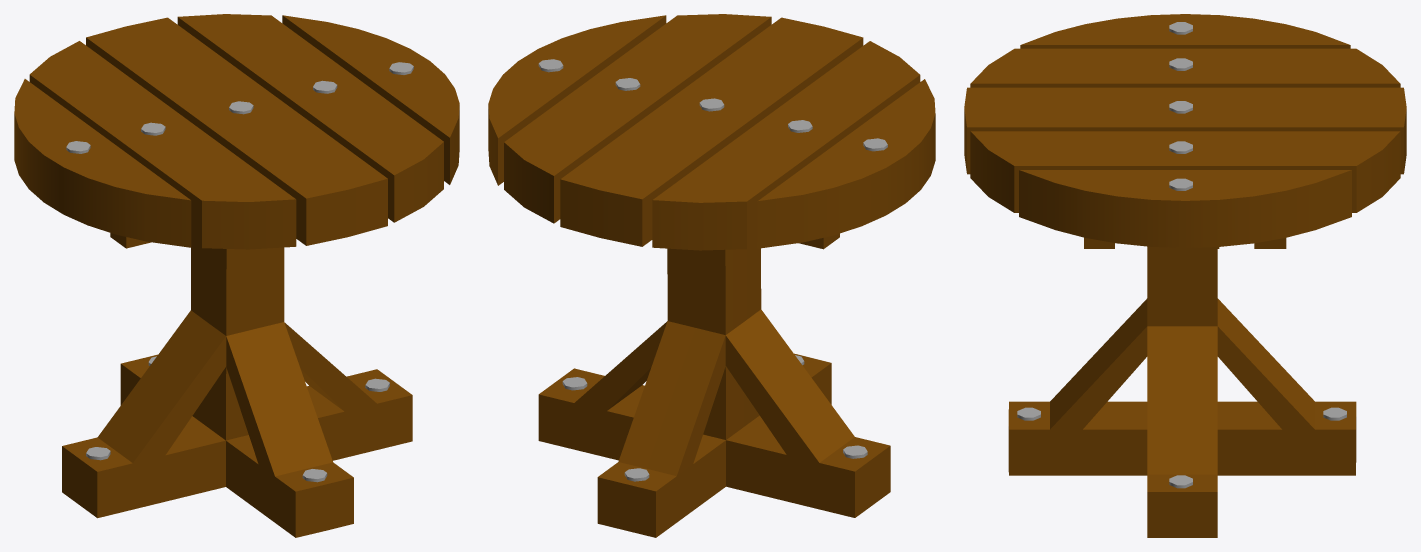
Rendered from Table_Small_low.fbx.
The picture shows the model from 3 angles, left to right: view 1: azimuth 30°, elevation 25°; view 2: azimuth 150°, elevation 25°; view 3: azimuth 270°, elevation 25°; orthographic projection.
Visible parts, largest first — view 1: Table_small_low; view 2: Table_small_low; view 3: Table_small_low.
Boxes of the visible parts, bbox=[...] form: Table_small_low: bbox=[14, 14, 459, 537]; Table_small_low: bbox=[488, 14, 935, 537]; Table_small_low: bbox=[964, 14, 1406, 537].
Size of the model in its own units: 92.13 by 82.12 by 92.13.
